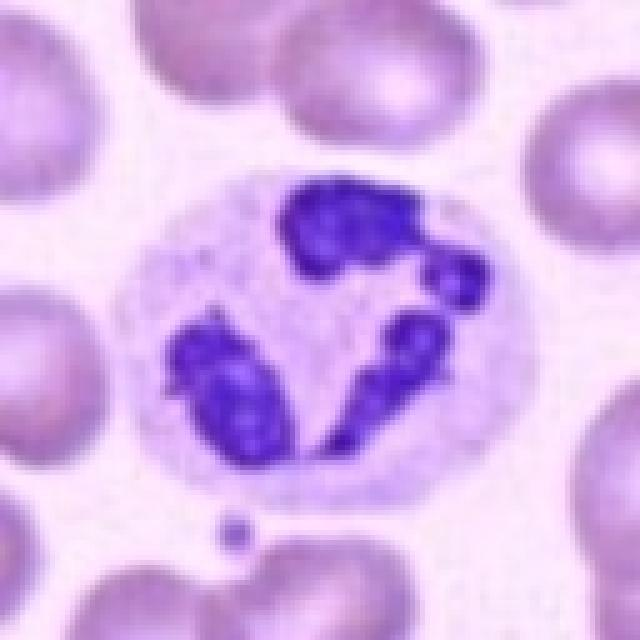neutro: (82, 128, 564, 458)
